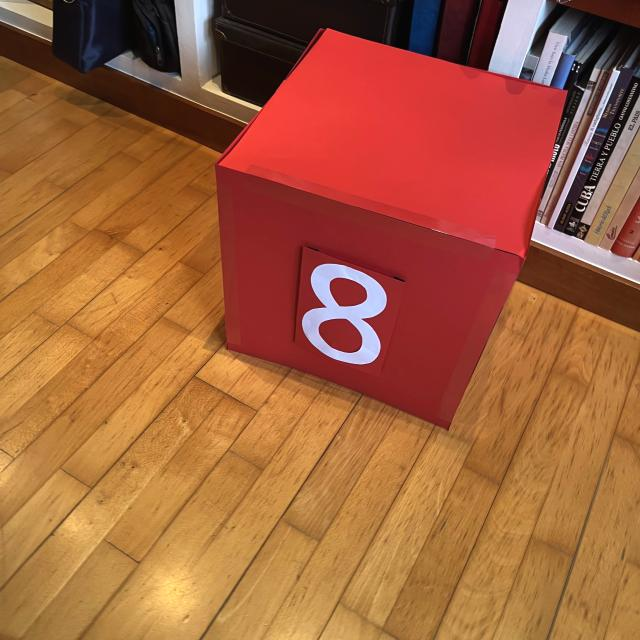box: (211, 25, 571, 432)
